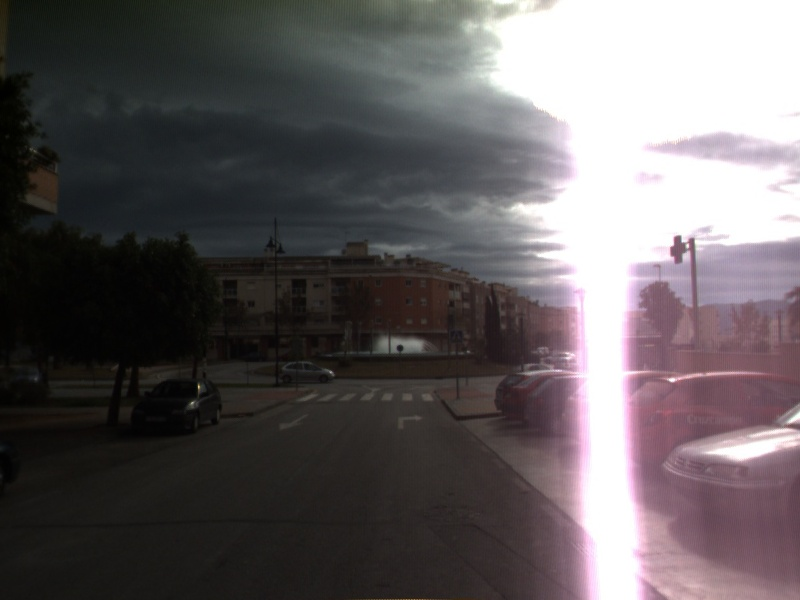RIGHT: (395, 412, 426, 431)
